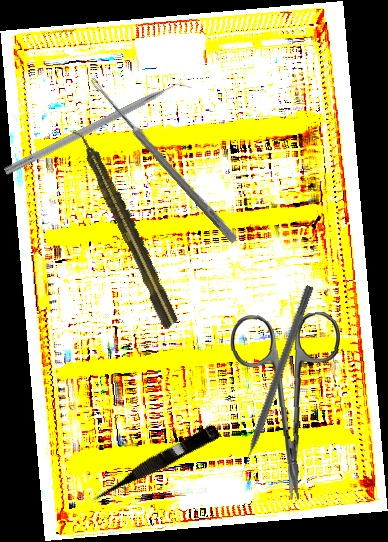Chopper: (3, 75, 195, 186)
Handpiece: (70, 123, 182, 332)
Iris Scissors: (229, 311, 346, 503)
Micro Scissor: (86, 420, 221, 507)
Pusher: (234, 284, 315, 479)
Surgical Spoon: (87, 76, 239, 244)
